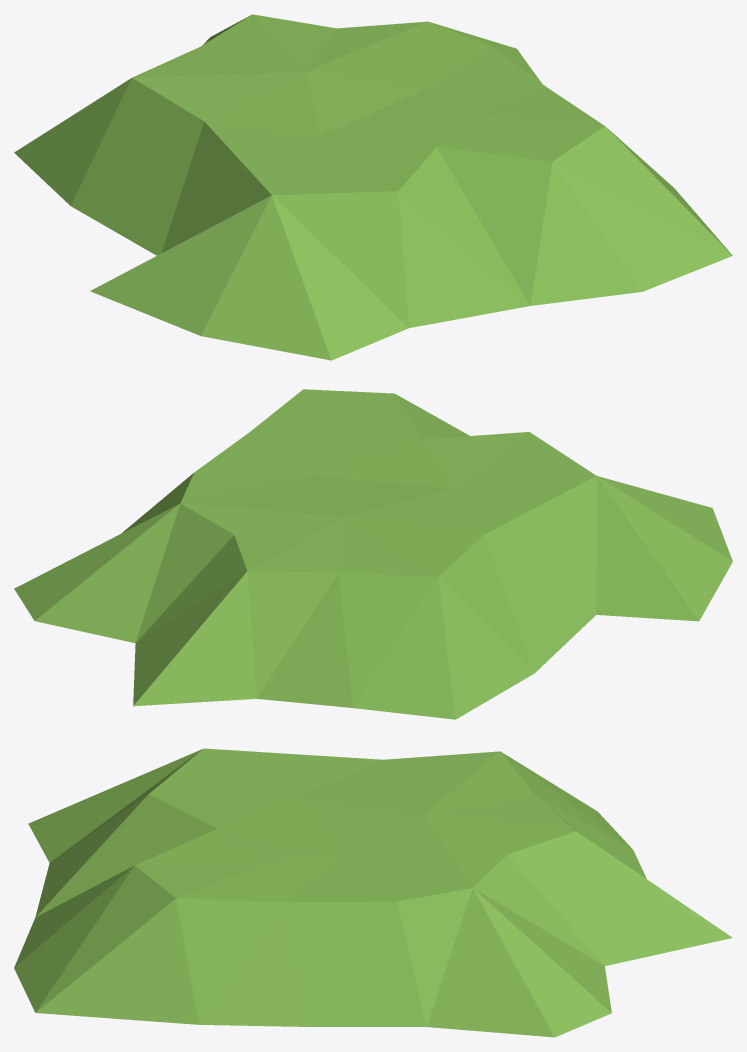
The model's file is MT_Mountain_S_b_22.fbx.
3 views of the same model, one above another, from view 1: azimuth 30°, elevation 25°; view 2: azimuth 150°, elevation 25°; view 3: azimuth 270°, elevation 25° (orthographic). The views are drawn at different scales.
Parts seen in each view (by area): view 1: MT_Mountain_S_b_22; view 2: MT_Mountain_S_b_22; view 3: MT_Mountain_S_b_22.
Part boxes in pixels (bbox=[...]): MT_Mountain_S_b_22: bbox=[14, 14, 732, 360]; MT_Mountain_S_b_22: bbox=[14, 389, 732, 719]; MT_Mountain_S_b_22: bbox=[14, 748, 732, 1037].
Size of the model in its own units: 1814 by 294 by 2035.
